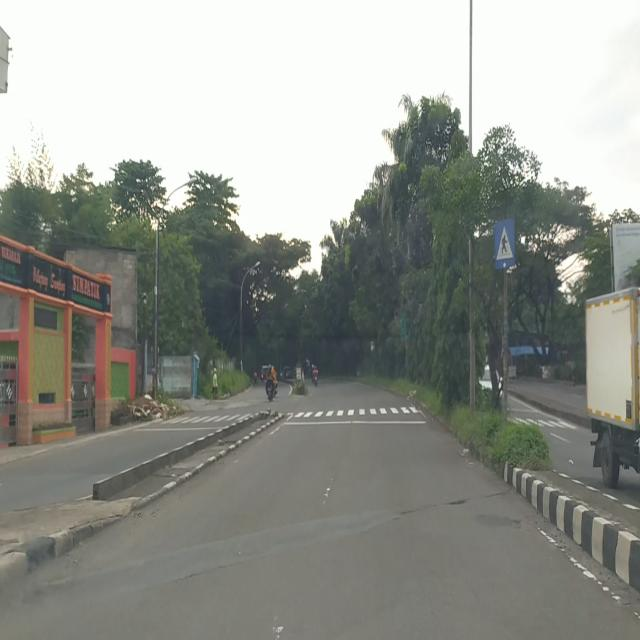Sewer Cover: (399, 492, 511, 511)
